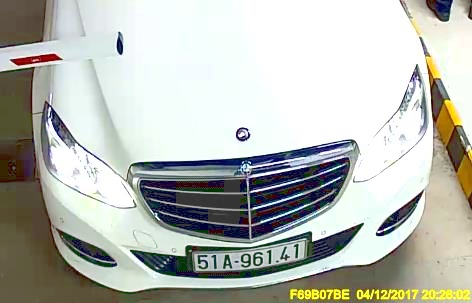plate: (192, 240, 307, 269)
